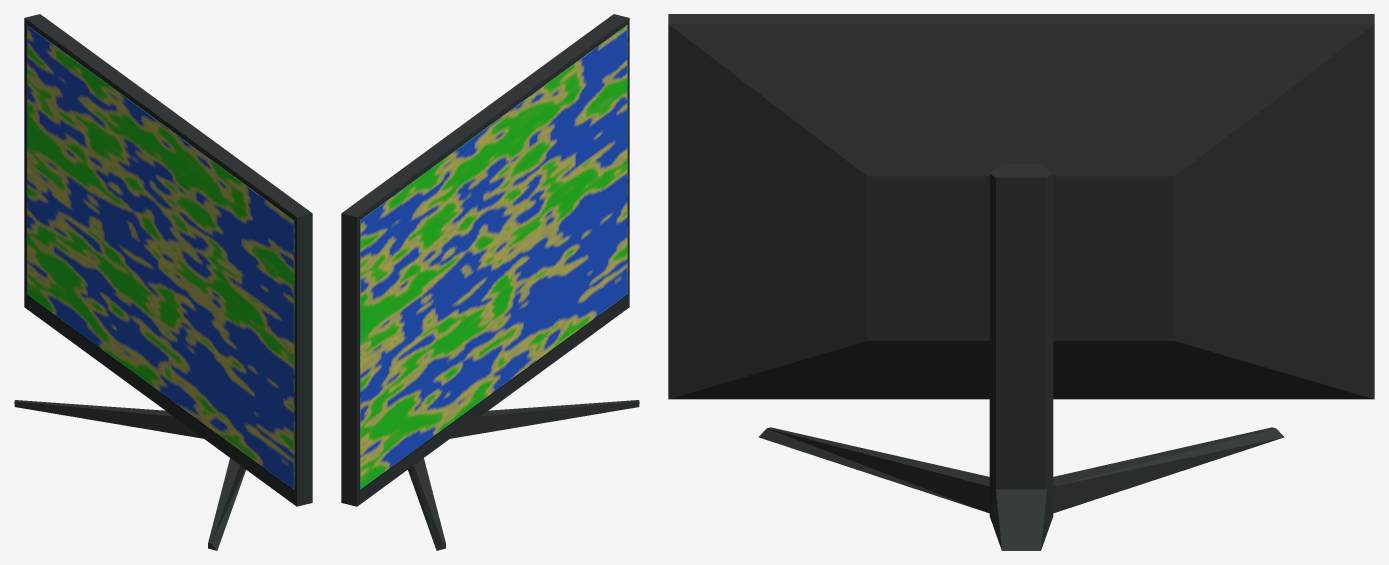
The model's file is monitor5.glb.
The picture shows the model from 3 angles, left to right: view 1: azimuth 30°, elevation 25°; view 2: azimuth 150°, elevation 25°; view 3: azimuth 270°, elevation 25°; orthographic projection. The views are drawn at different scales.
Parts seen in each view (by area): view 1: Material_1-material, Material_0-material; view 2: Material_1-material, Material_0-material; view 3: Material_0-material.
Boxes of the visible parts, x1,y1,x2,y2 form: Material_1-material: [27, 25, 294, 489]; Material_0-material: [14, 14, 312, 550]; Material_1-material: [360, 25, 627, 489]; Material_0-material: [341, 14, 639, 550]; Material_0-material: [668, 14, 1374, 550].
Size of the model in its own units: 24.04 by 43.46 by 61.62.
Materials: 2 (2 with a texture image).
